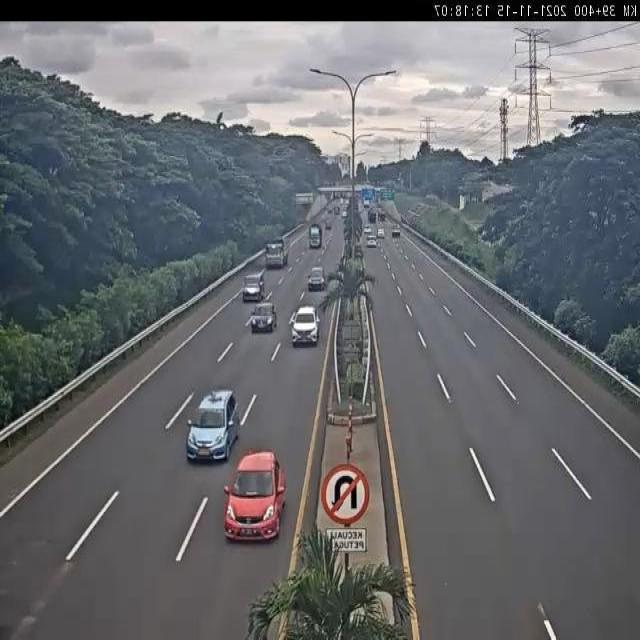Car: (223, 449, 286, 541), (186, 387, 240, 462), (290, 304, 320, 346), (250, 301, 278, 334), (242, 270, 266, 302), (307, 267, 326, 292), (367, 235, 377, 248), (376, 228, 384, 239), (364, 225, 371, 235)
Truck: (266, 242, 284, 269), (309, 226, 322, 248), (368, 210, 376, 223), (378, 210, 386, 221), (392, 226, 400, 237), (324, 193, 330, 202)
